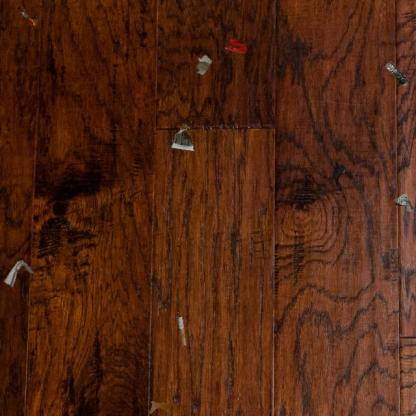dirty: (3, 258, 35, 288), (384, 59, 412, 87), (170, 123, 194, 153), (14, 2, 40, 29), (392, 192, 416, 214), (194, 53, 214, 77), (175, 314, 188, 347)
liquid: (223, 38, 246, 54), (148, 400, 172, 415)
